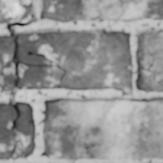brick: (43, 99, 162, 159), (40, 0, 162, 21), (136, 33, 162, 91), (0, 0, 31, 23)
broken_brick: (16, 30, 133, 93), (8, 101, 36, 160), (17, 66, 62, 90), (0, 103, 15, 157), (0, 35, 13, 95)
crack: (0, 2, 67, 160), (141, 48, 162, 83), (0, 35, 3, 39)
